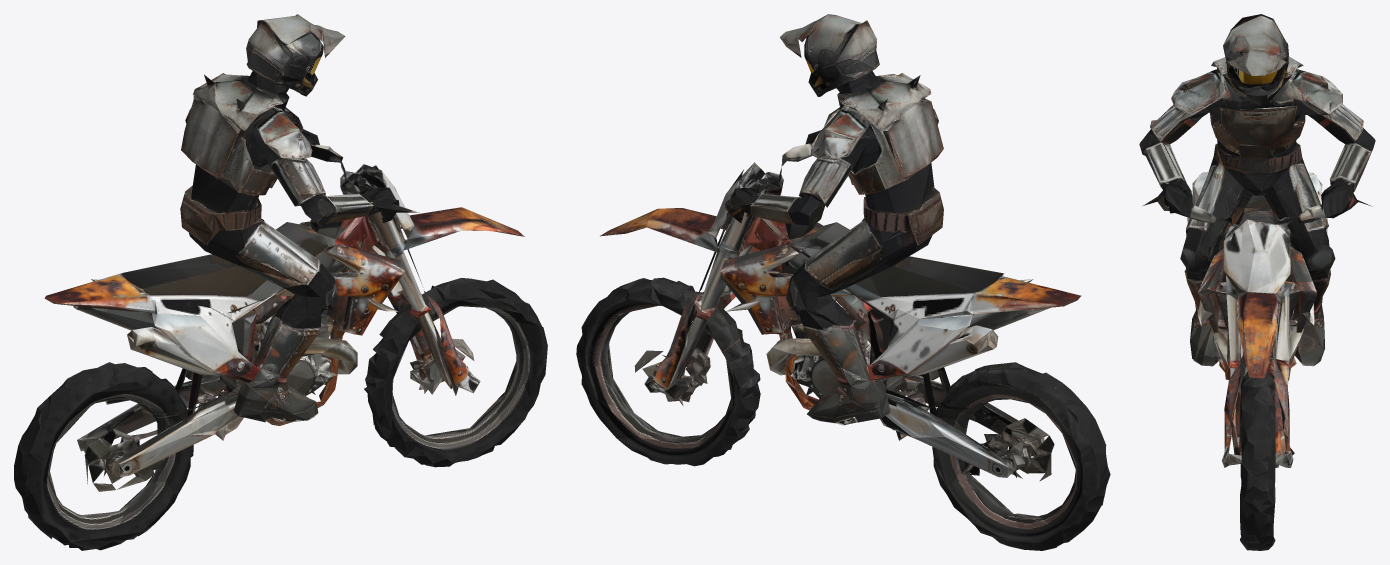
The model's file is moto-carcass-high.glb.
3 renders of one model, left to right at view 1: azimuth 30°, elevation 25°; view 2: azimuth 150°, elevation 25°; view 3: azimuth 270°, elevation 25°, orthographic. The views are drawn at different scales.
Size of the model in its own units: 1.9 by 1.67 by 0.8076.
Materials: 1 (1 with a texture image).
